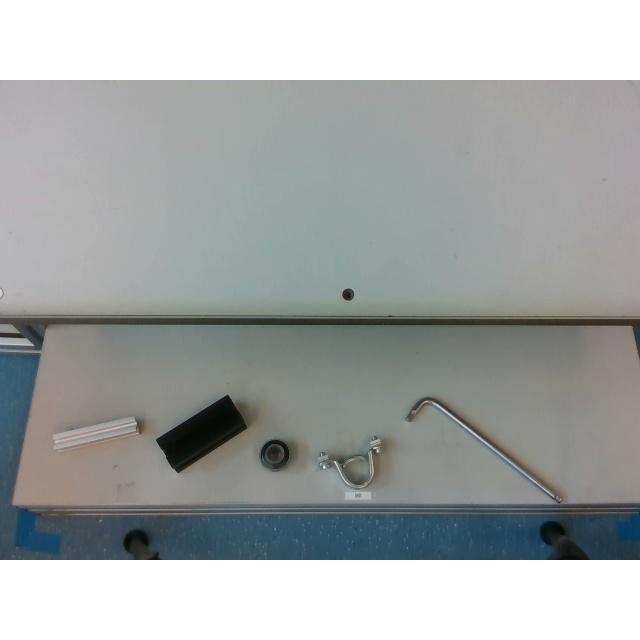AllenKey: (405, 397, 563, 503)
Bearing2: (260, 439, 288, 468)
F20_20_G: (52, 418, 140, 450)
Housing: (318, 438, 382, 489)
S40_40_B: (156, 396, 246, 472)
